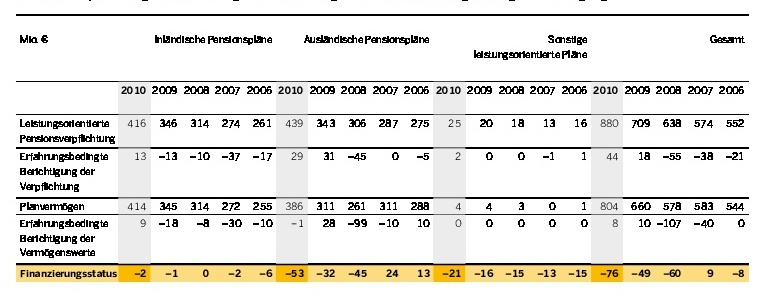table: (0, 0, 765, 301)
